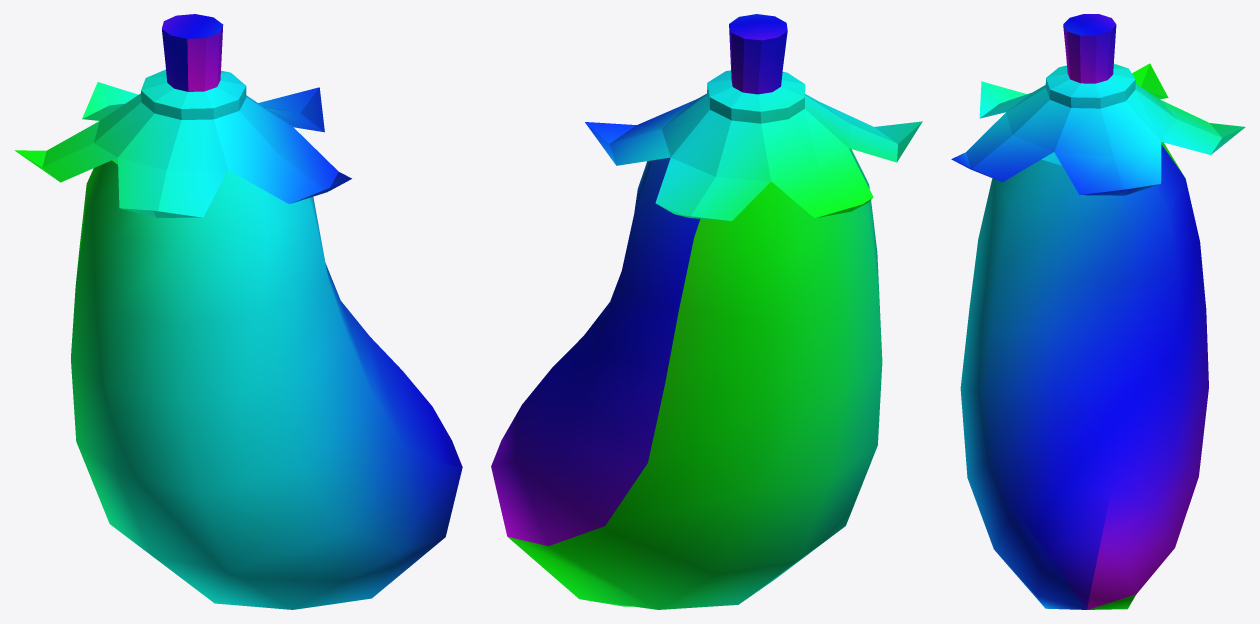
File: nasu_l_uv.fbx
3 renders of one model, left to right at view 1: azimuth 30°, elevation 25°; view 2: azimuth 150°, elevation 25°; view 3: azimuth 270°, elevation 25°, orthographic. The views are drawn at different scales.
Parts seen in each view (by area): view 1: pSphere1, pSphere2; view 2: pSphere1, pSphere2; view 3: pSphere1, pSphere2.
Boxes of the visible parts, left/top/right/bottom form: pSphere1: left=71, top=158, right=462, bottom=609; pSphere2: left=14, top=14, right=351, bottom=217; pSphere1: left=491, top=148, right=882, bottom=609; pSphere2: left=585, top=14, right=922, bottom=221; pSphere1: left=960, top=142, right=1208, bottom=609; pSphere2: left=951, top=14, right=1245, bottom=195.
Bounding box in the file's own units: 635 × 931 × 471.
1 material, 1 textured.
